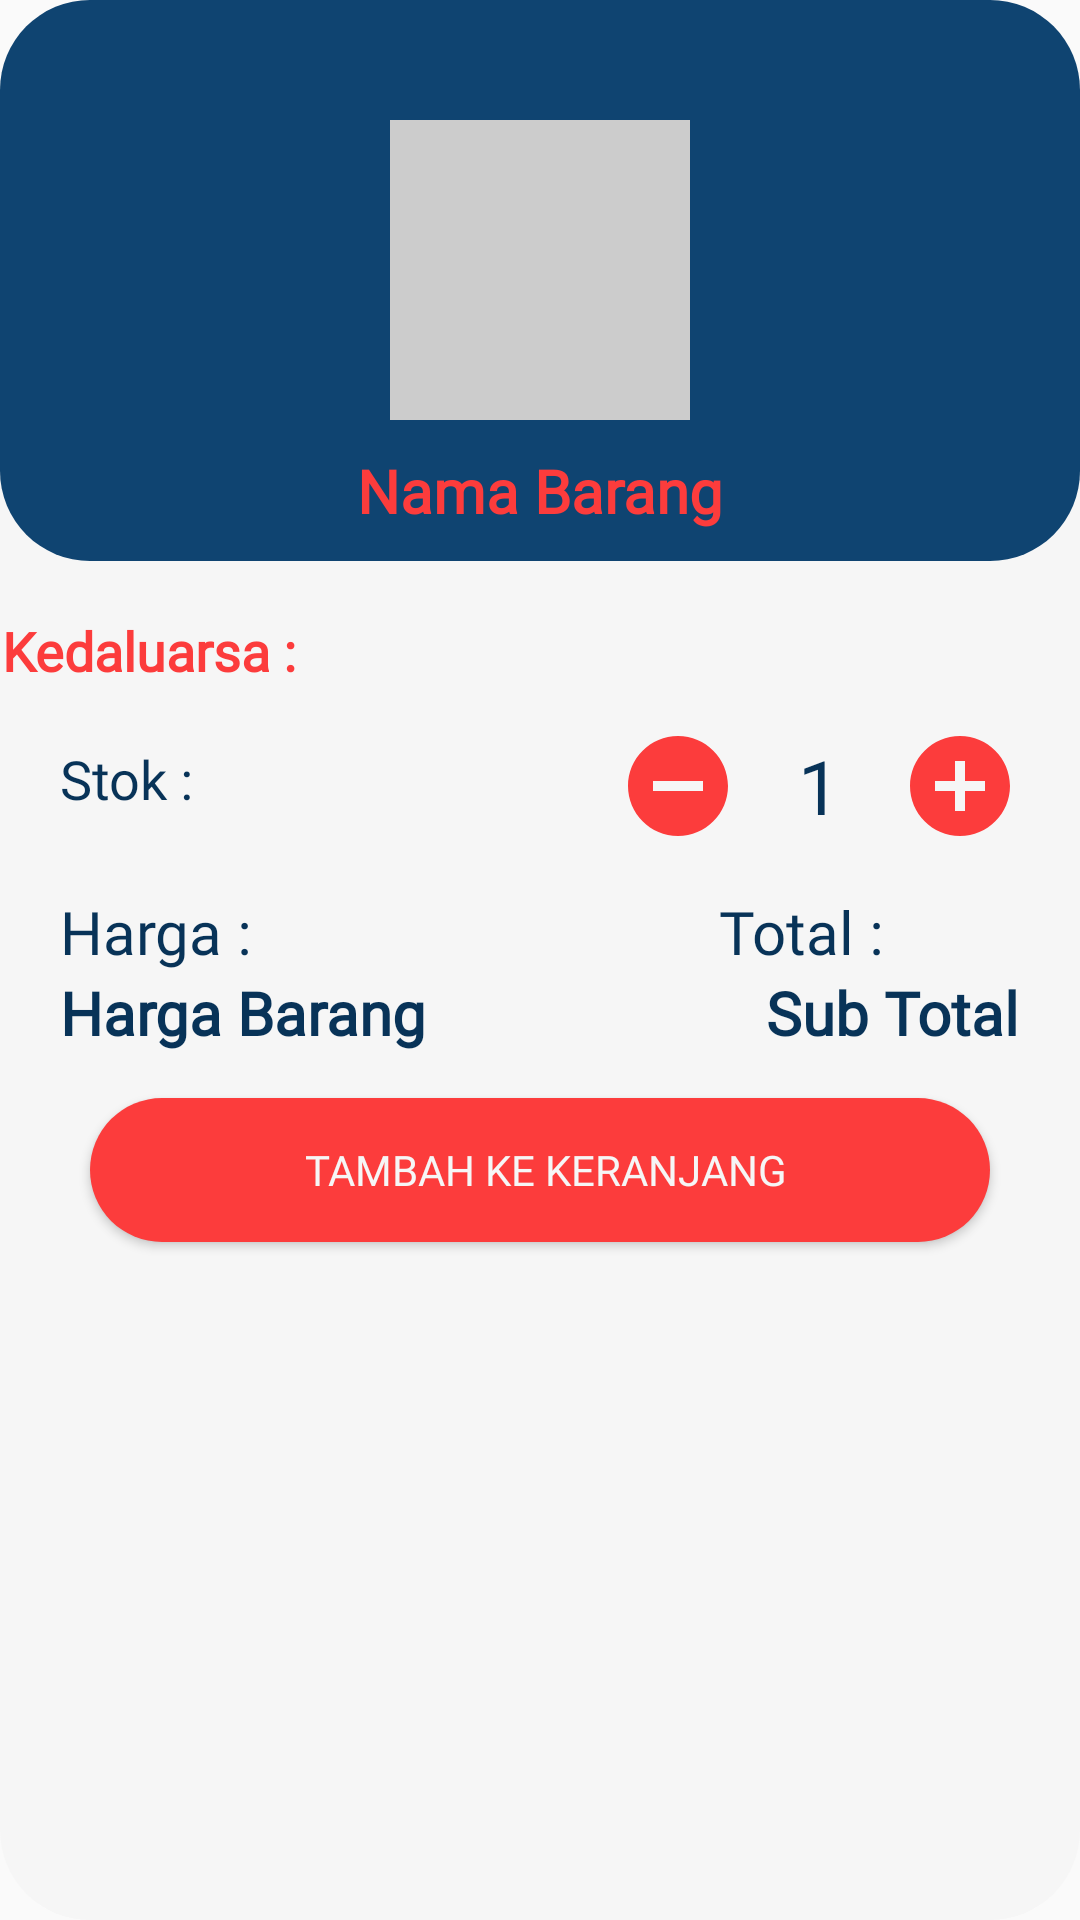

Named icons in this screenshot (1080 × 1920) and their centers, point (x, y):
kurang: point (678, 786)
tambar baru: point (960, 786)
